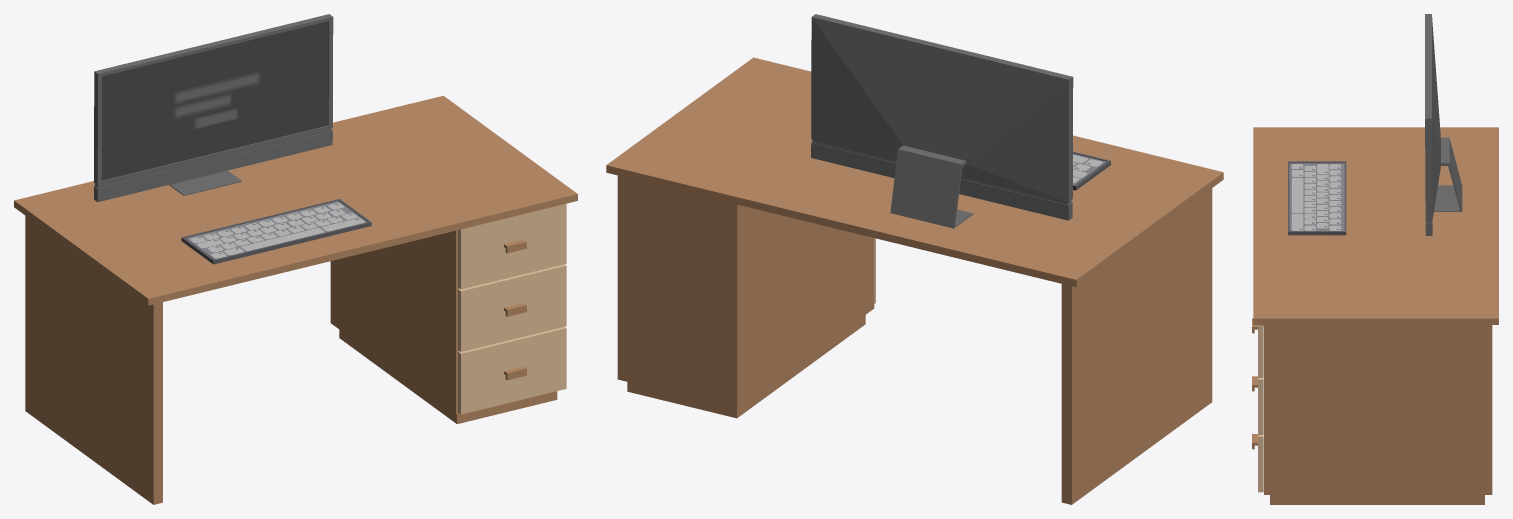
File: computer table.fbx
3 views of the same model, side by side, from view 1: azimuth 30°, elevation 25°; view 2: azimuth 150°, elevation 25°; view 3: azimuth 270°, elevation 25° (orthographic). The views are drawn at different scales.
Visible parts, largest first — view 1: Table; view 2: Table; view 3: Table.
Boxes of the visible parts, x1=… form: Table: x1=14, y1=14, x2=577, y2=504; Table: x1=606, y1=14, x2=1223, y2=504; Table: x1=1252, y1=14, x2=1498, y2=504.
Bounding box in the file's own units: 97.22 × 76.86 × 53.01.
Materials: 1 (1 with a texture image).
